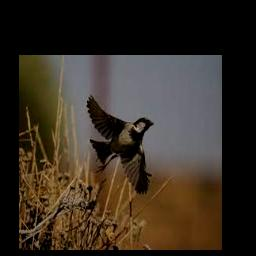Sparrow: (86, 94, 154, 194)
